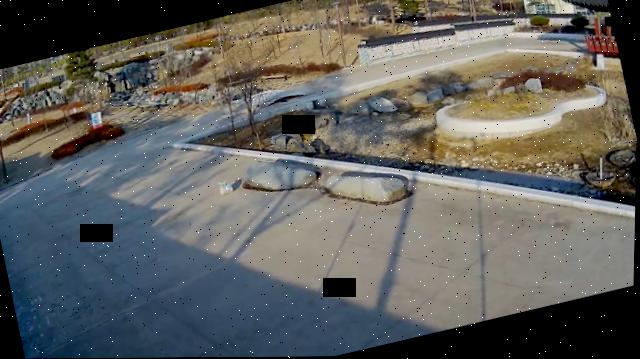trash: (217, 178, 235, 196)
